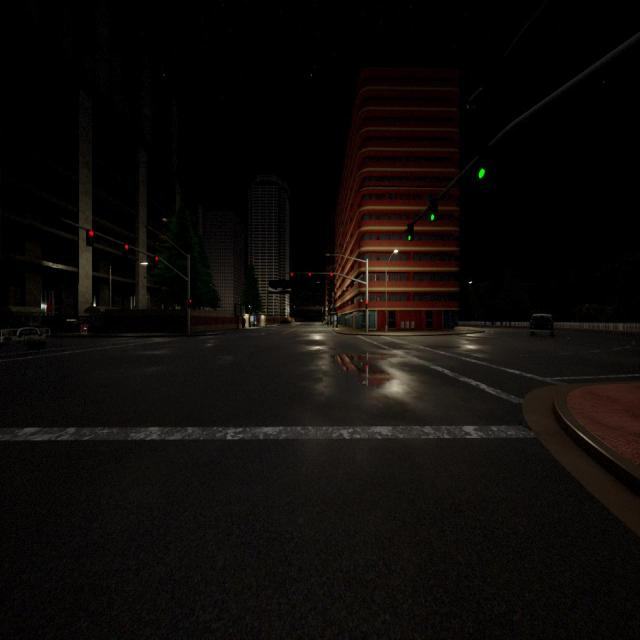Vehicle: (1, 325, 56, 349), (528, 314, 554, 342)
traffic_light: (478, 151, 488, 179), (430, 200, 438, 222), (406, 223, 414, 241), (86, 228, 94, 246), (122, 244, 130, 256), (154, 256, 158, 268), (188, 299, 191, 308), (365, 301, 368, 309), (330, 273, 333, 276), (309, 272, 311, 276), (291, 273, 293, 276)
